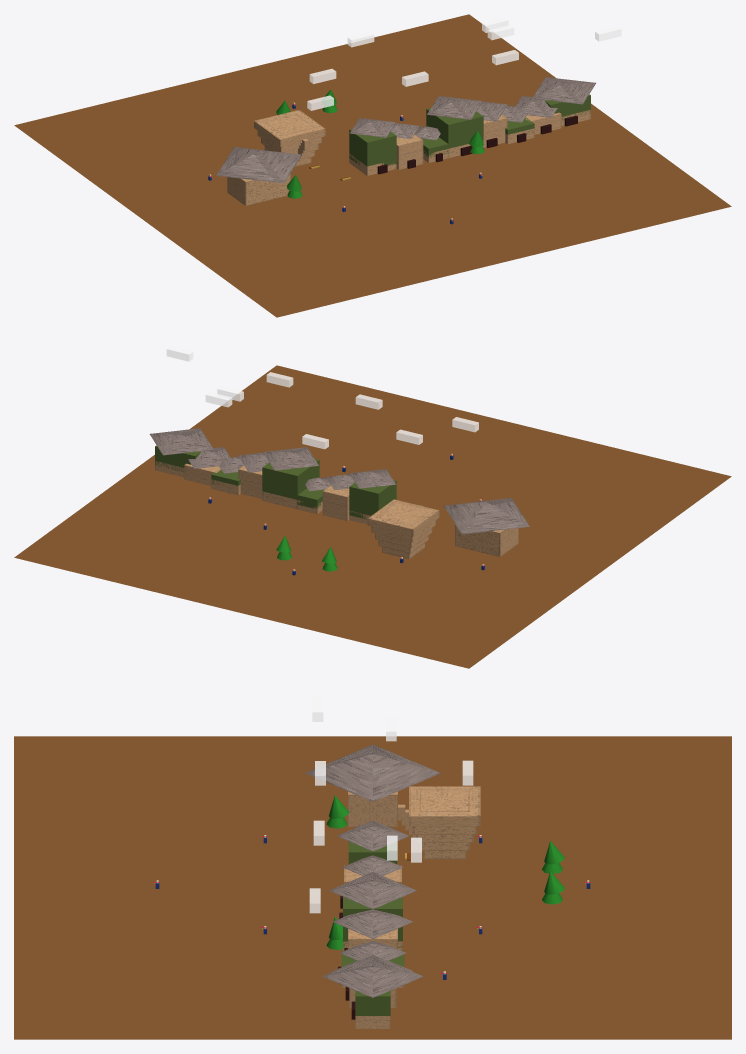
The model's file is official-qwen.glb.
3 views of the same model, one above another, from view 1: azimuth 30°, elevation 25°; view 2: azimuth 150°, elevation 25°; view 3: azimuth 270°, elevation 25° (orthographic). The views are drawn at different scales.
Bounding box in the file's own units: 200 × 41.6 × 200.
Materials: 96 (3 with a texture image).
